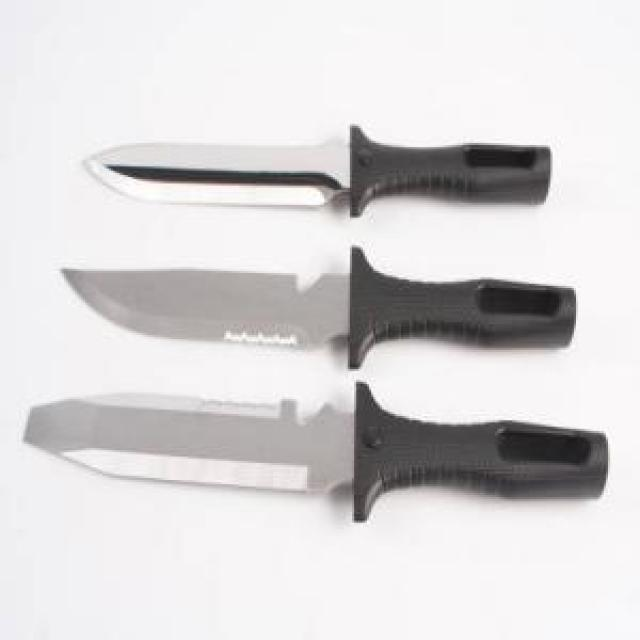knife: (24, 379, 612, 524), (62, 256, 579, 366), (85, 126, 558, 220)
